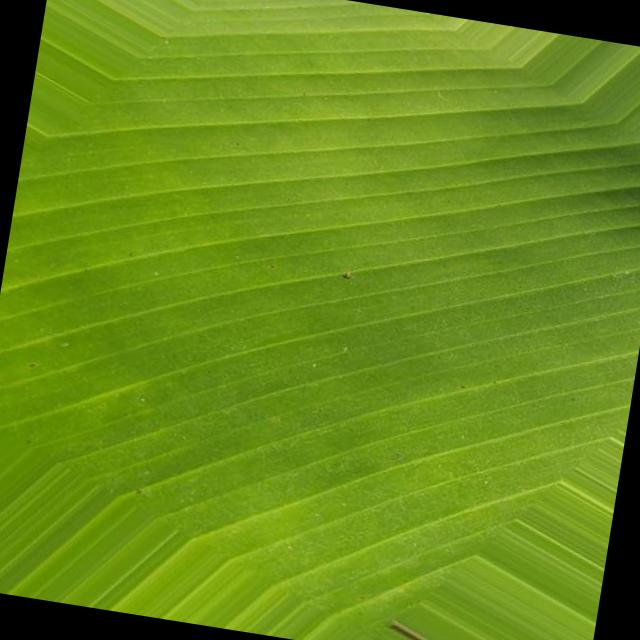Banana_Healthy: (99, 71, 562, 478)
